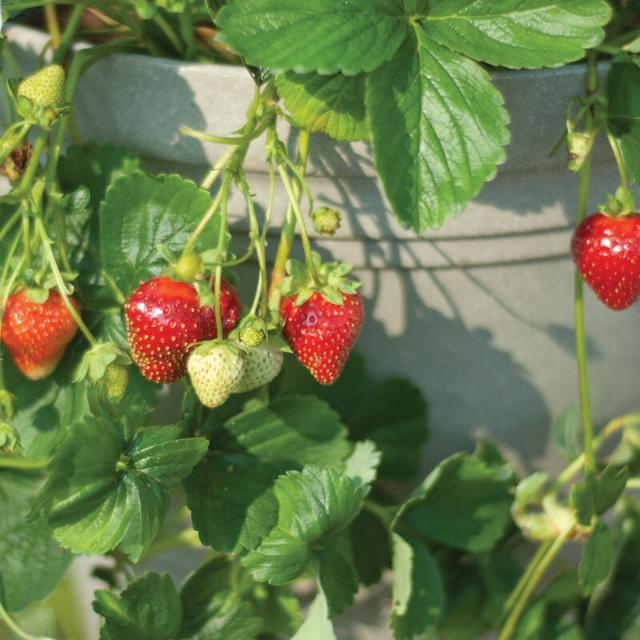Strawberries: (282, 286, 368, 386), (126, 278, 204, 386), (572, 204, 640, 314), (1, 288, 77, 380)
